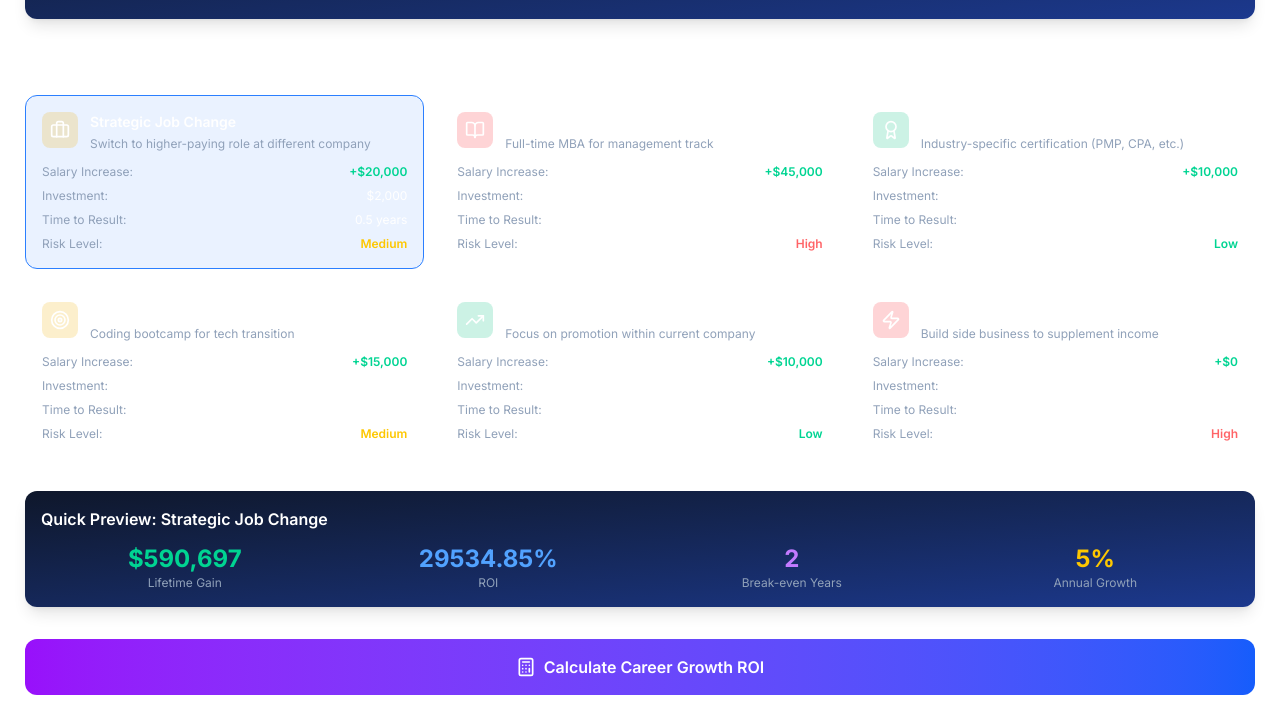
Scenario: CareerGrowthROICalculator › shows loading state during calculation
(page scrolled)
Click the text "Calculate Career Growth ROI" at (640, 667), box [516,657,764,677]
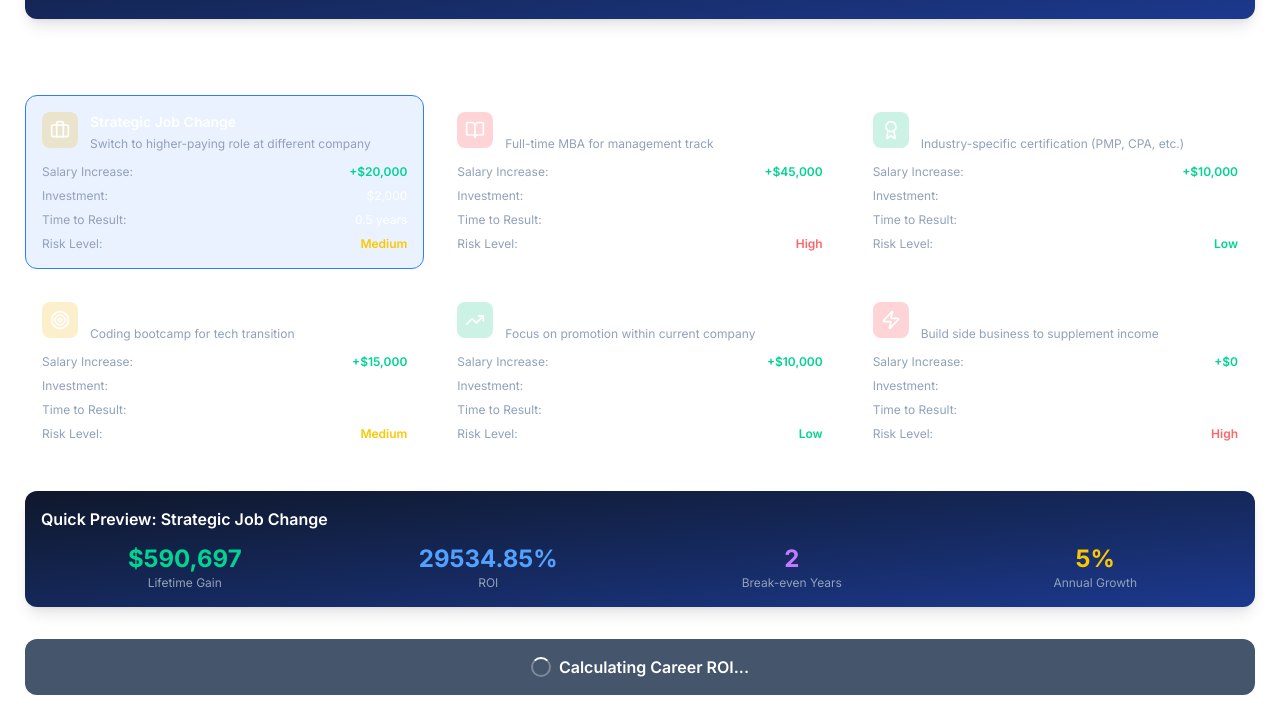
Now the text "Calculating Career ROI..." is shown, box [531,657,749,677]
Now the text "Calculate Career Growth ROI" is gone
